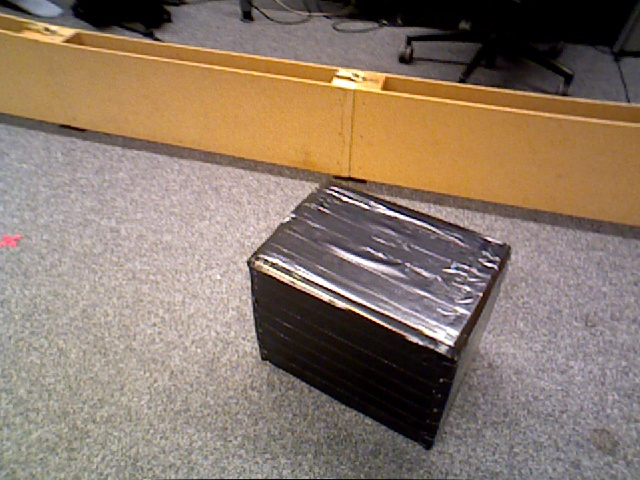push: (248, 181, 512, 450)
